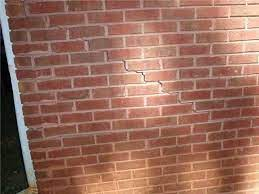stairstep_crack: (22, 2, 208, 113)
